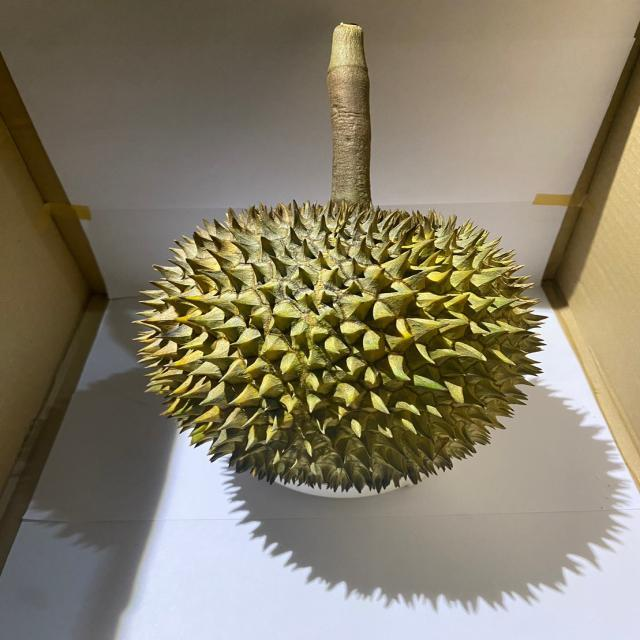immature: (134, 195, 548, 499)
